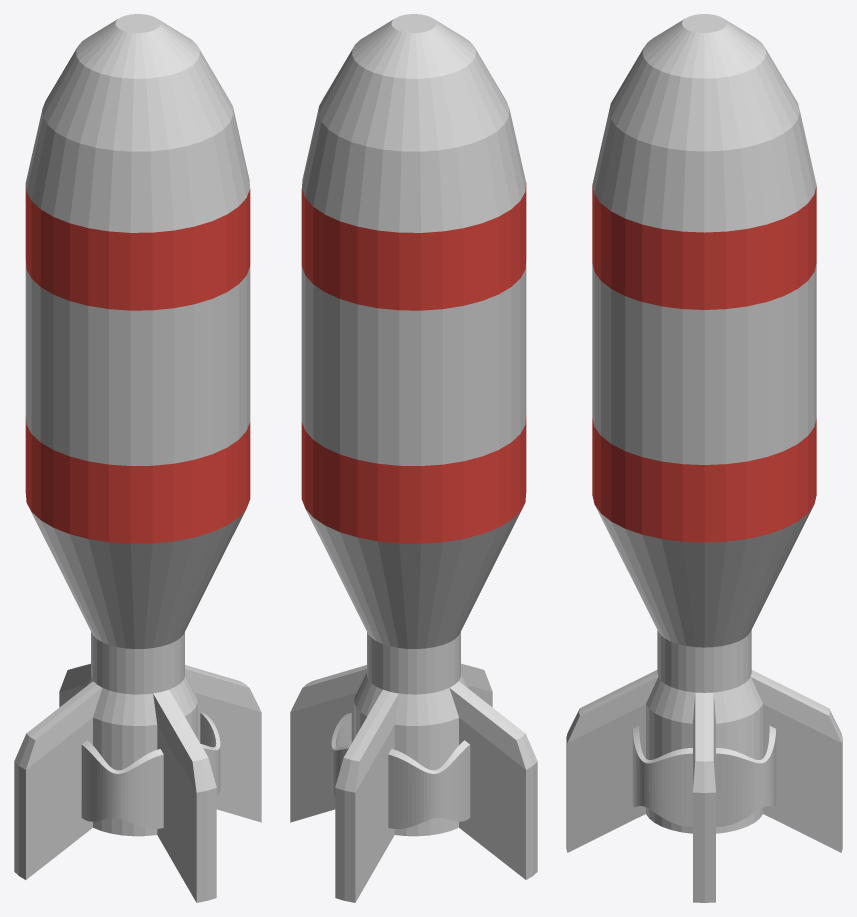
Rendered from rocket.fbx.
3 renders of one model, left to right at view 1: azimuth 30°, elevation 25°; view 2: azimuth 150°, elevation 25°; view 3: azimuth 270°, elevation 25°, orthographic.
Visible parts, largest first — view 1: Cylinder; view 2: Cylinder; view 3: Cylinder.
Boxes of the visible parts, bbox=[...] form: Cylinder: bbox=[14, 14, 261, 902]; Cylinder: bbox=[290, 14, 537, 902]; Cylinder: bbox=[566, 14, 842, 902].
Bounding box in the file's own units: 0.3967 × 0.3932 × 1.31.
